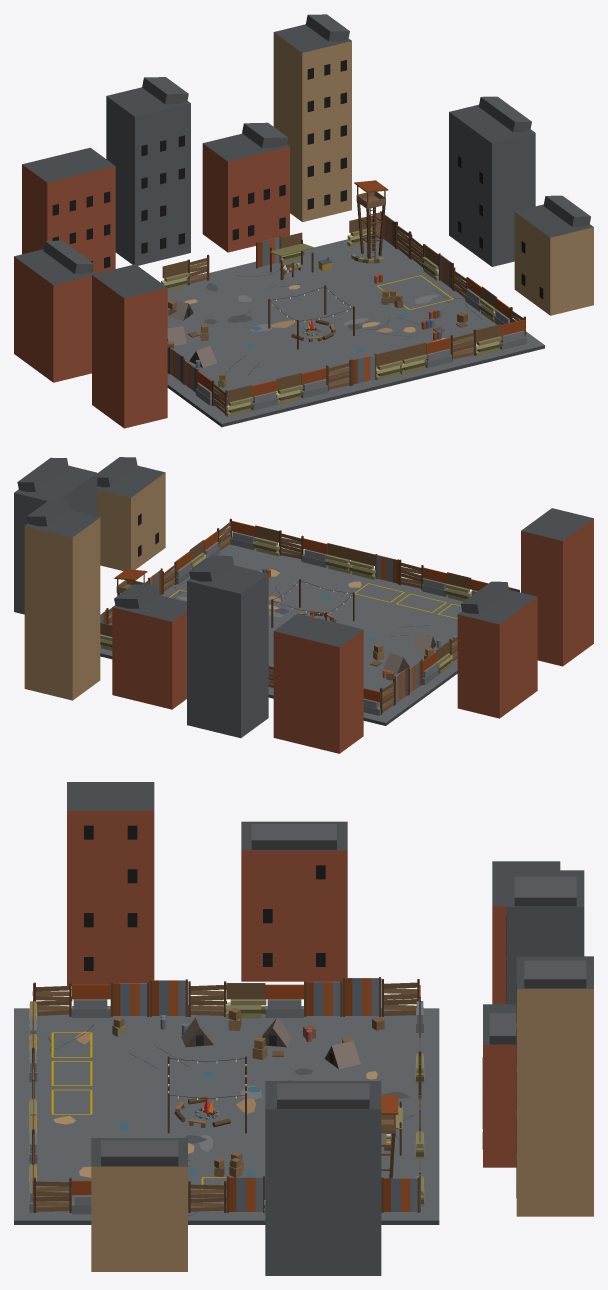
The model's file is Lobby_Hub.obj.
The picture shows the model from 3 angles, top to bottom: view 1: azimuth 30°, elevation 25°; view 2: azimuth 150°, elevation 25°; view 3: azimuth 270°, elevation 25°; orthographic projection. The views are drawn at different scales.
Visible parts, largest first — view 1: Backdrop_Backdrop, Ground_Ground, Walls_Walls, Props_Props, Tower_Tower; view 2: Backdrop_Backdrop, Ground_Ground, Walls_Walls, Props_Props, Tower_Tower; view 3: Backdrop_Backdrop, Ground_Ground, Walls_Walls, Props_Props, Tower_Tower.
Boxes of the visible parts, x1,y1,x2,y2 form: Backdrop_Backdrop: (14, 14, 593, 428); Ground_Ground: (167, 238, 544, 427); Walls_Walls: (161, 211, 526, 416); Props_Props: (167, 239, 467, 387); Tower_Tower: (354, 180, 388, 258); Backdrop_Backdrop: (14, 457, 593, 753); Ground_Ground: (100, 541, 463, 725); Walls_Walls: (100, 518, 519, 715); Props_Props: (262, 568, 456, 680); Tower_Tower: (114, 569, 147, 595); Backdrop_Backdrop: (67, 782, 593, 1275); Ground_Ground: (14, 1008, 439, 1224); Walls_Walls: (29, 977, 424, 1214); Props_Props: (112, 1007, 402, 1177); Tower_Tower: (381, 1095, 398, 1178).
Size of the model in its own units: 158 by 56.63 by 120.
